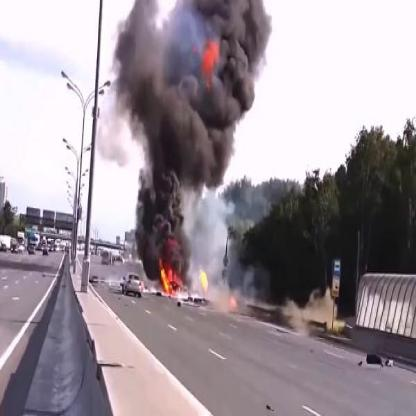fire: (159, 250, 211, 302), (201, 35, 220, 82)
